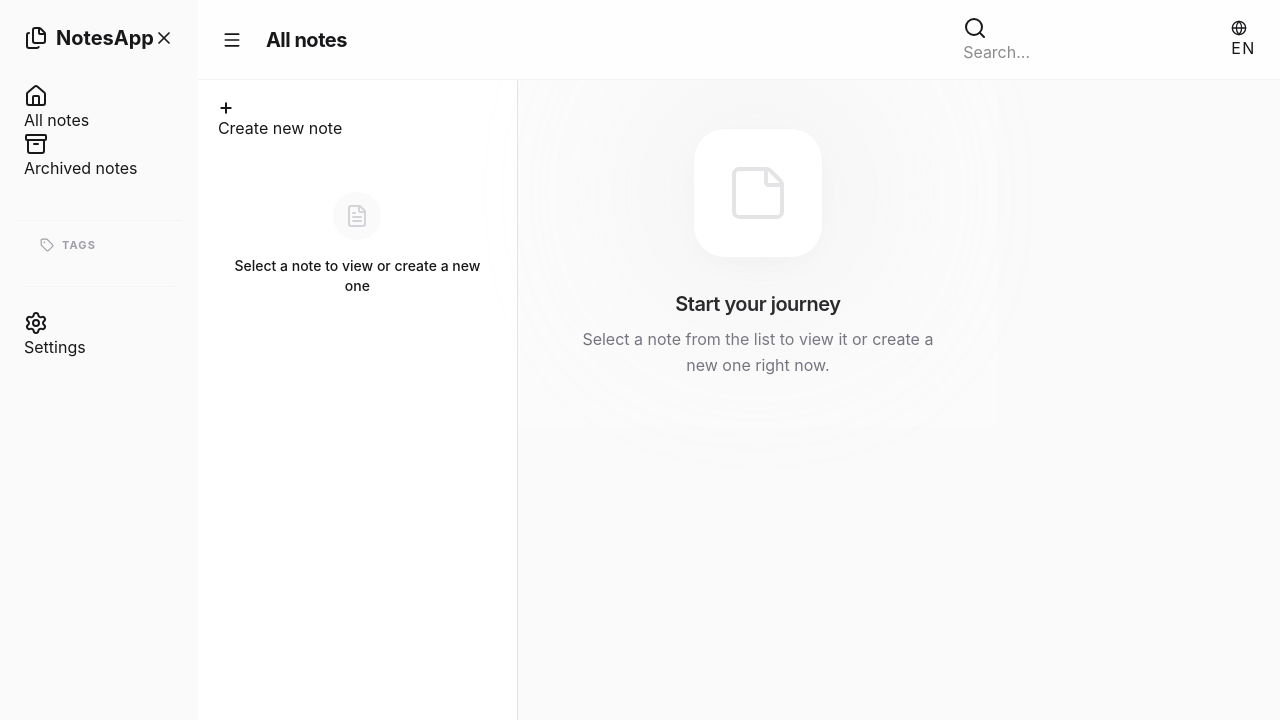
Test case: i18n Translations › should load the app and show English text
This screenshot has width=1280, height=720.
Expected: the link "NotesApp" is shown, x1=24 y1=24 x2=154 y2=52
Expected: the link "All notes" is shown, x1=24 y1=84 x2=174 y2=130
Note: Switch to PT
Click the button "en": click(1244, 40) x1=1231 y1=20 x2=1256 y2=60
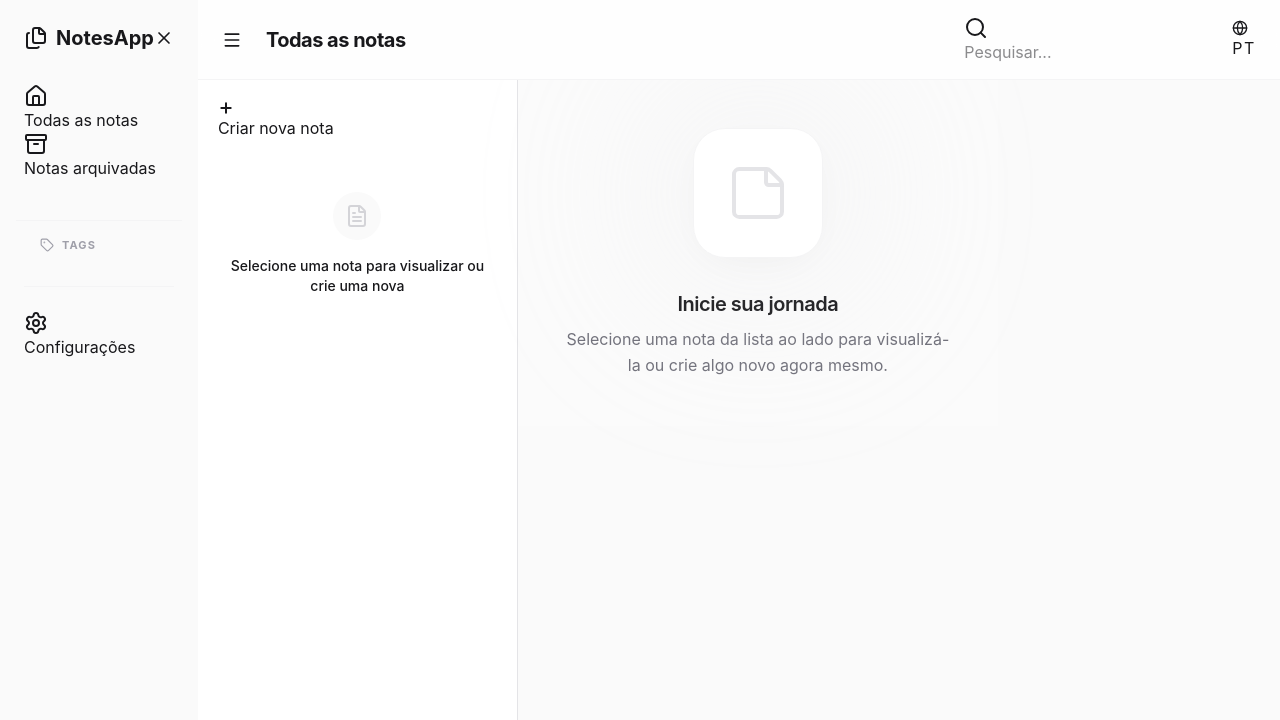
Expected: the link "Todas as notas" is shown, x1=24 y1=84 x2=174 y2=130
